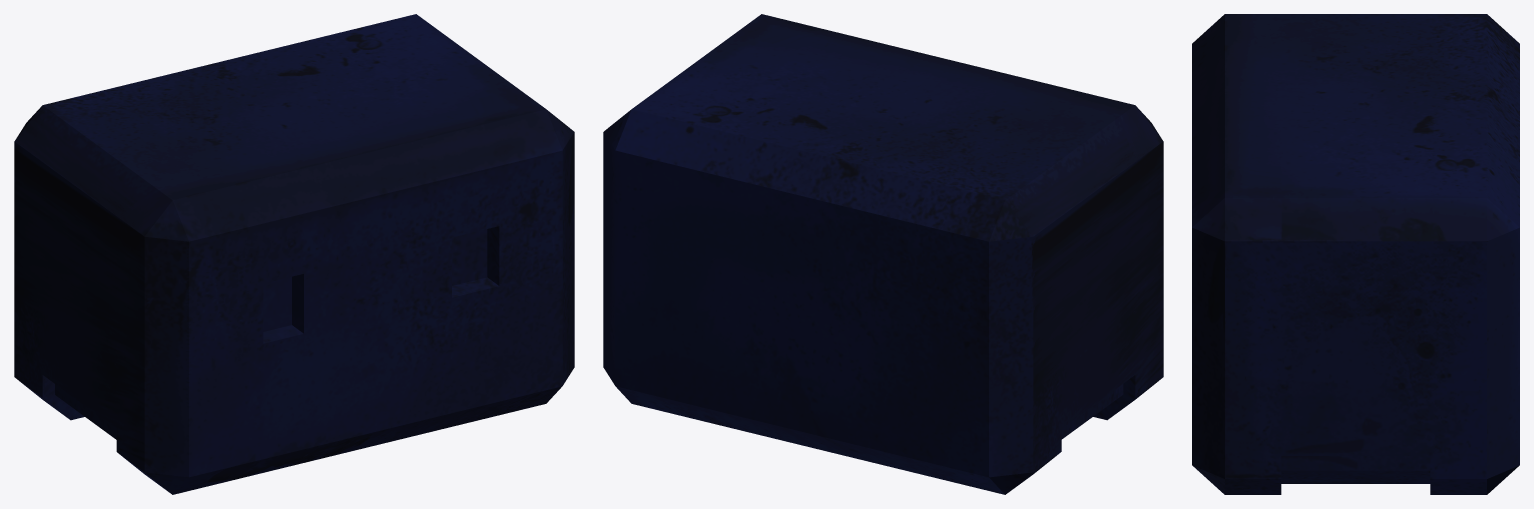
Rendered from Blue Box.fbx.
3 renders of one model, left to right at view 1: azimuth 30°, elevation 25°; view 2: azimuth 150°, elevation 25°; view 3: azimuth 270°, elevation 25°, orthographic.
Parts seen in each view (by area): view 1: pCube3; view 2: pCube3; view 3: pCube3.
Boxes of the visible parts, left/top/right/bottom form: pCube3: left=14, top=14, right=574, bottom=494; pCube3: left=603, top=14, right=1163, bottom=494; pCube3: left=1192, top=14, right=1519, bottom=494.
Size of the model in its own units: 8.63 by 5.65 by 5.65.
Materials: 1 (1 with a texture image).
